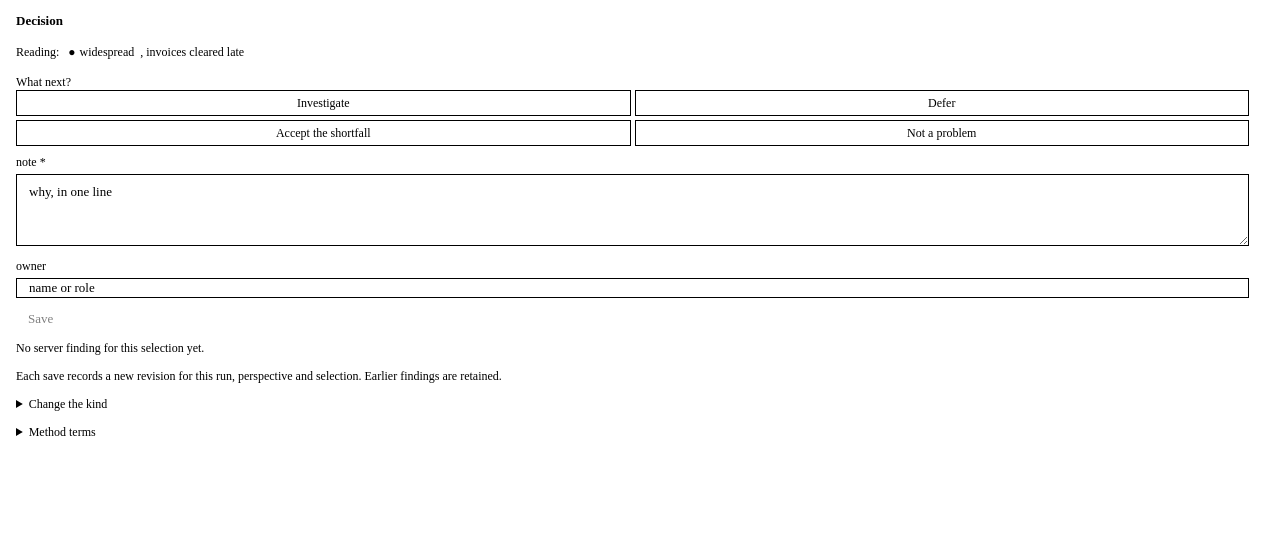
Test: server-persisted decision pane › shows save errors and rejects a legacy successful response without server-owned evidence
Expected: the text box labelled "note *" is enabled, [16, 174, 1249, 246]
Click the radio button labelled "Investigate". click: (323, 103)
box: [16, 90, 630, 116]
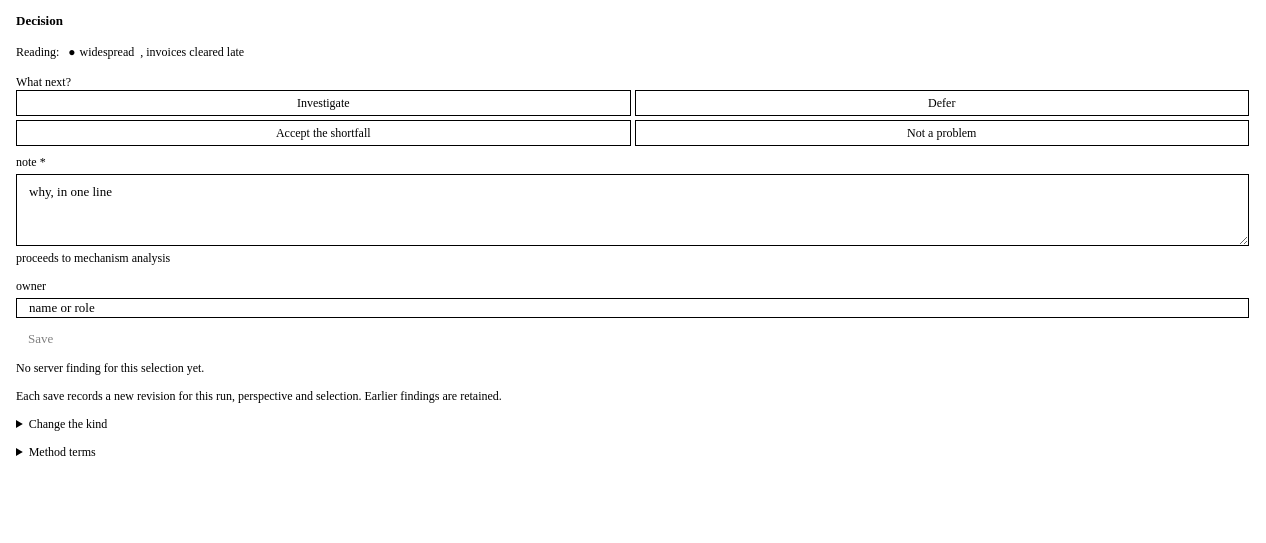
Type "Keep my draft" into the text box labelled "note *". click: (632, 210)
box: [16, 174, 1249, 246]
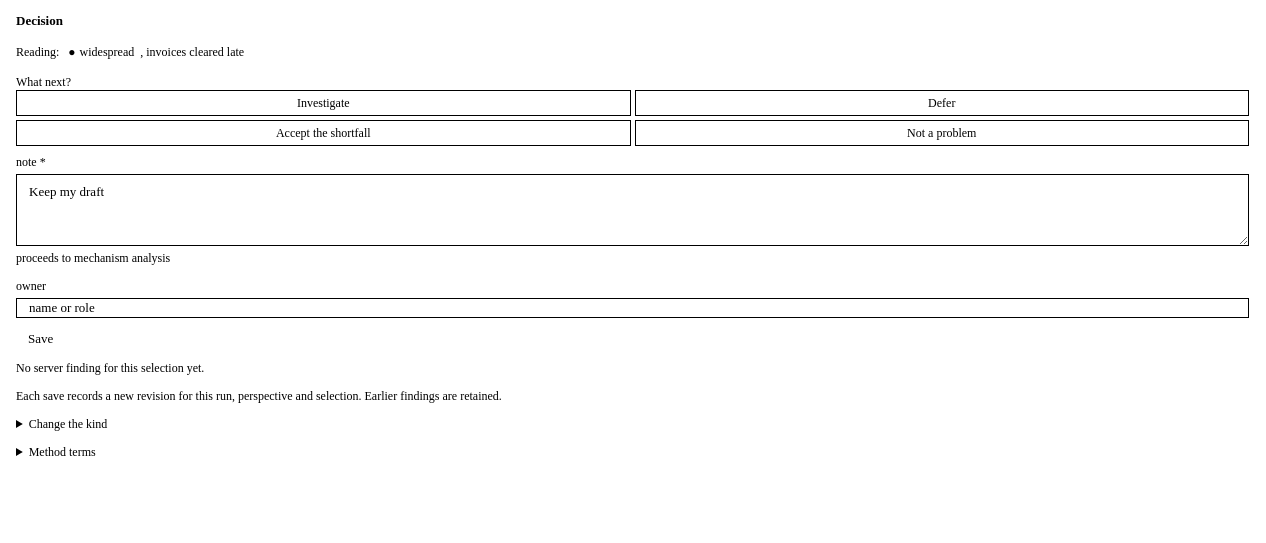
Click the button "Save". click: (41, 339)
box: [16, 330, 65, 348]
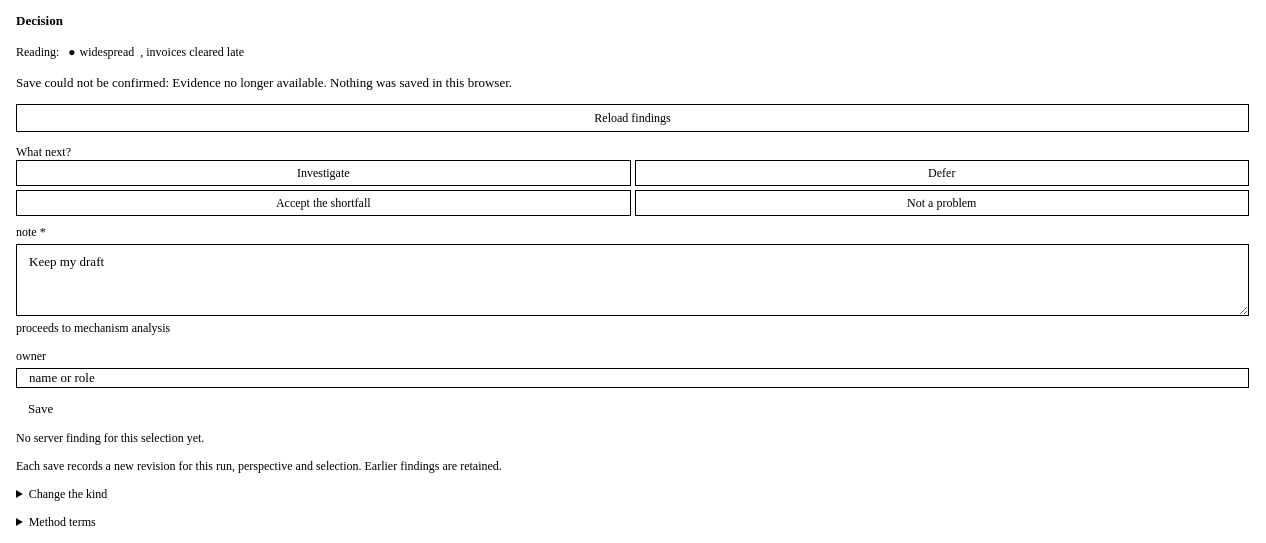
Expected: the text with test id "decision-status" does not show "Saved on server", [16, 431, 204, 445]
Result: the message shows "Evidence no longer available" at [172, 75, 324, 90]
Click the button "Save". click: (41, 409)
box: [16, 400, 65, 418]
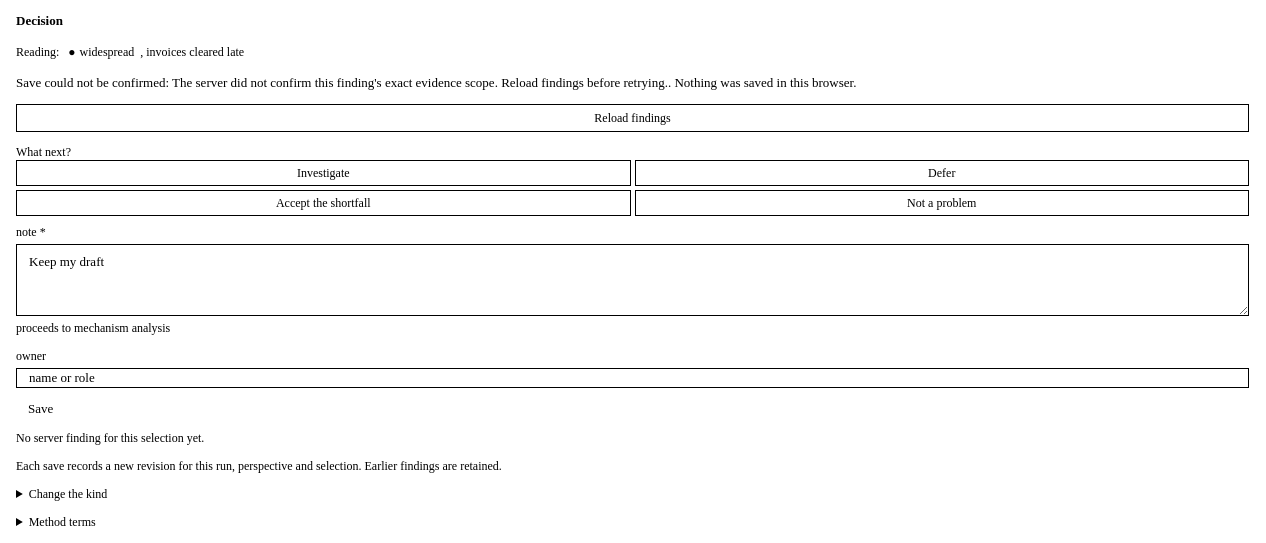
Result: the message shows "exact evidence scope" at [172, 75, 668, 90]
